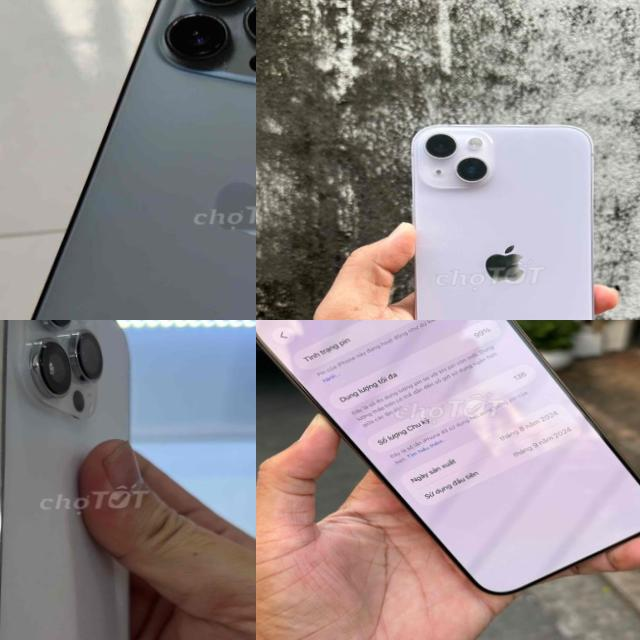gen_12_13: (0, 0, 256, 320)
gen_14: (0, 320, 152, 640), (394, 113, 612, 320)
gen_16: (256, 320, 640, 600)
